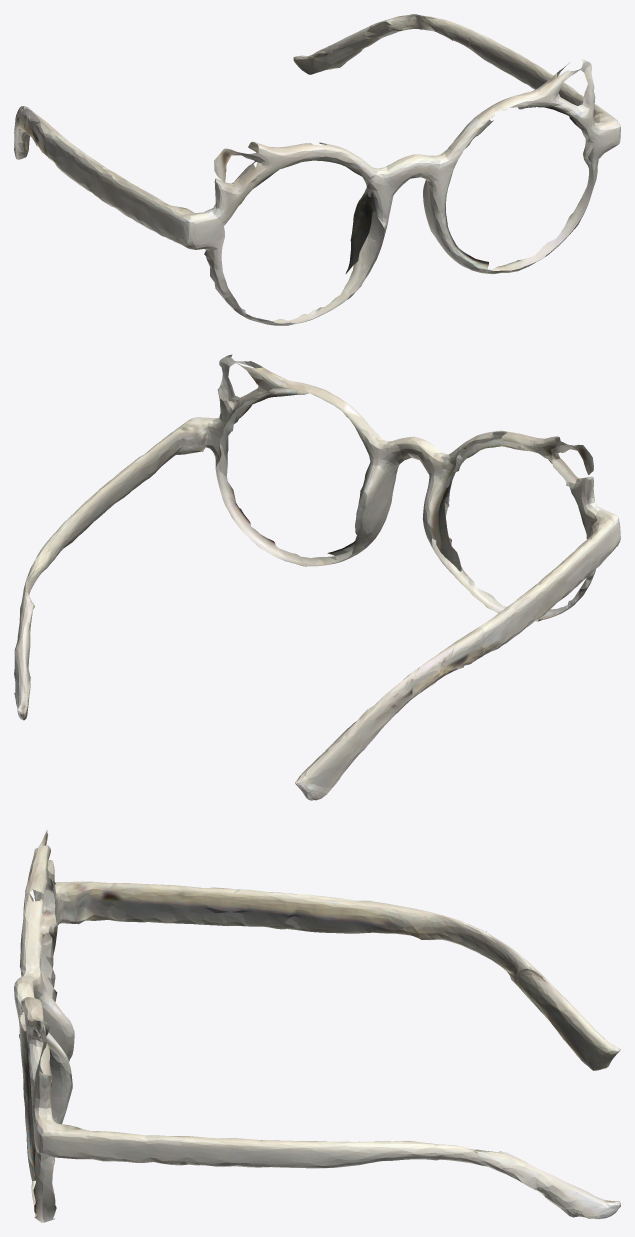
Rendered from scan_align.obj.
3 views of the same model, one above another, from view 1: azimuth 30°, elevation 25°; view 2: azimuth 150°, elevation 25°; view 3: azimuth 270°, elevation 25° (orthographic). The views are drawn at different scales.
Bounding box in the file's own units: 0.1319 × 0.0552 × 0.1345.
Materials: 1 (1 with a texture image).
